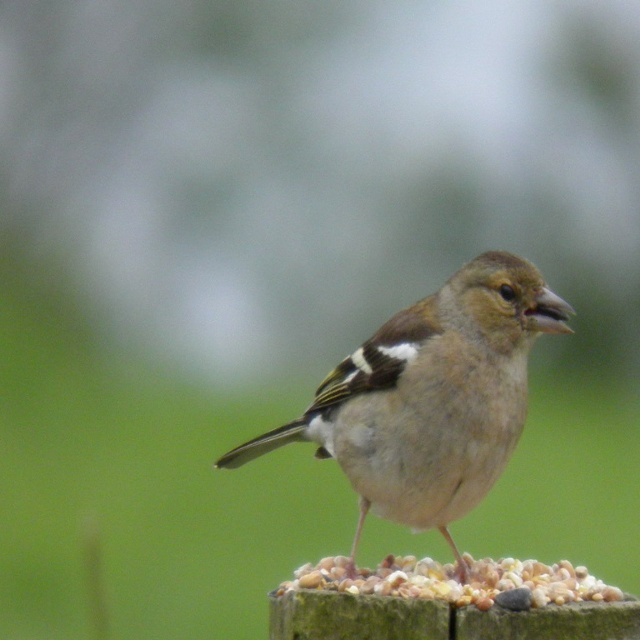Sparrow: (213, 249, 578, 586)
